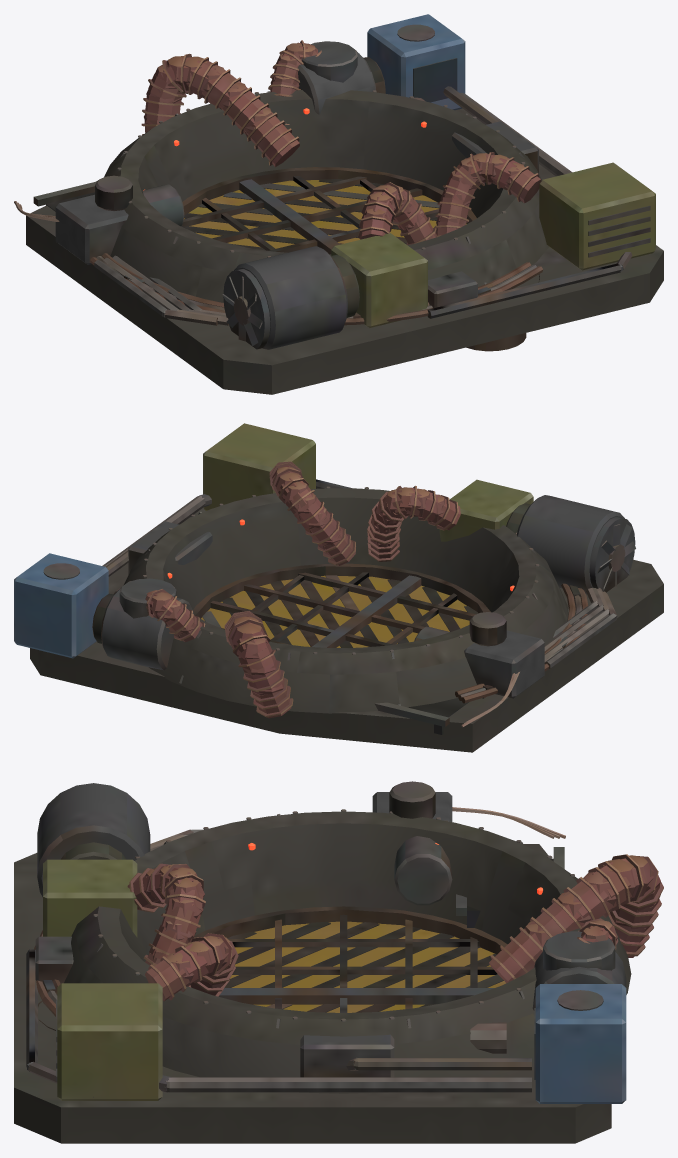
Rendered from rocket-silo.glb.
3 renders of one model, top to bottom at view 1: azimuth 30°, elevation 25°; view 2: azimuth 150°, elevation 25°; view 3: azimuth 270°, elevation 25°, orthographic. The views are drawn at different scales.
Visible parts, largest first — view 1: body, anim_door_silo_e, anim_door_silo_w, anim_fan_silo, anim_lift_silo; view 2: body, anim_door_silo_e, anim_door_silo_w, anim_fan_silo; view 3: body, anim_door_silo_w, anim_door_silo_e.
Part boxes in pixels (x1,y1,x2,y2): body: (14, 14, 663, 394); anim_door_silo_e: (239, 176, 466, 254); anim_door_silo_w: (181, 190, 317, 252); anim_fan_silo: (222, 276, 262, 345); anim_lift_silo: (466, 333, 526, 351); body: (14, 423, 663, 752); anim_door_silo_e: (201, 572, 421, 647); anim_door_silo_w: (336, 585, 478, 647); anim_fan_silo: (597, 524, 635, 590); body: (14, 781, 663, 1143); anim_door_silo_w: (224, 914, 505, 987); anim_door_silo_e: (218, 988, 494, 1012).
Bounding box in the file's own units: 8.92 × 2.67 × 8.97.
2 materials, 2 textured.
